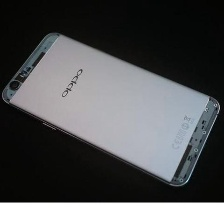phone: (0, 29, 224, 189)
